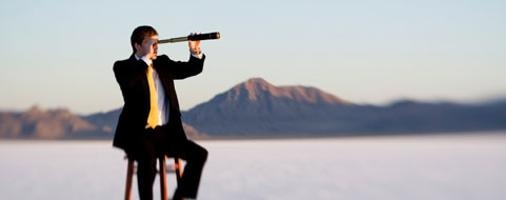person without safety: (112, 25, 206, 157)
